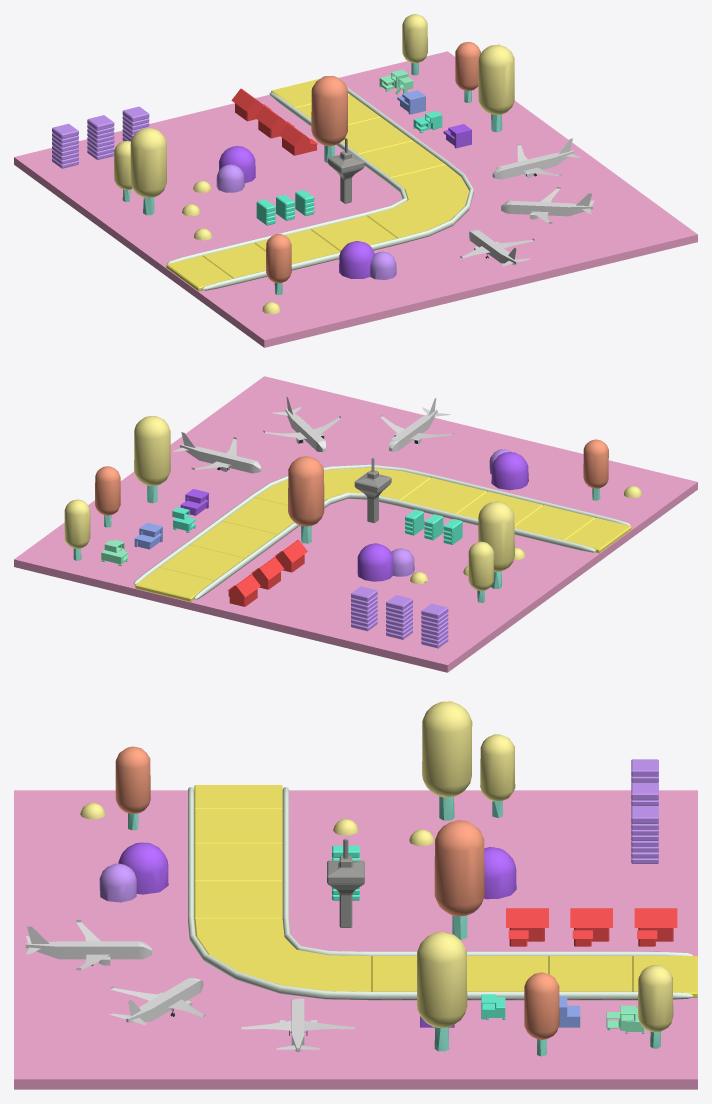
File: spiel_des_lebens.glb
3 renders of one model, top to bottom at view 1: azimuth 30°, elevation 25°; view 2: azimuth 150°, elevation 25°; view 3: azimuth 270°, elevation 25°, orthographic. The views are drawn at different scales.
Visible parts, largest first — view 1: Cube.022; view 2: Cube.022; view 3: Cube.022.
Part boxes in pixels (box(x1,y1,x2,y2)): Cube.022: box(14, 14, 697, 347); Cube.022: box(14, 376, 697, 672); Cube.022: box(14, 701, 697, 1089).
Size of the model in its own units: 2 by 0.4201 by 2.
